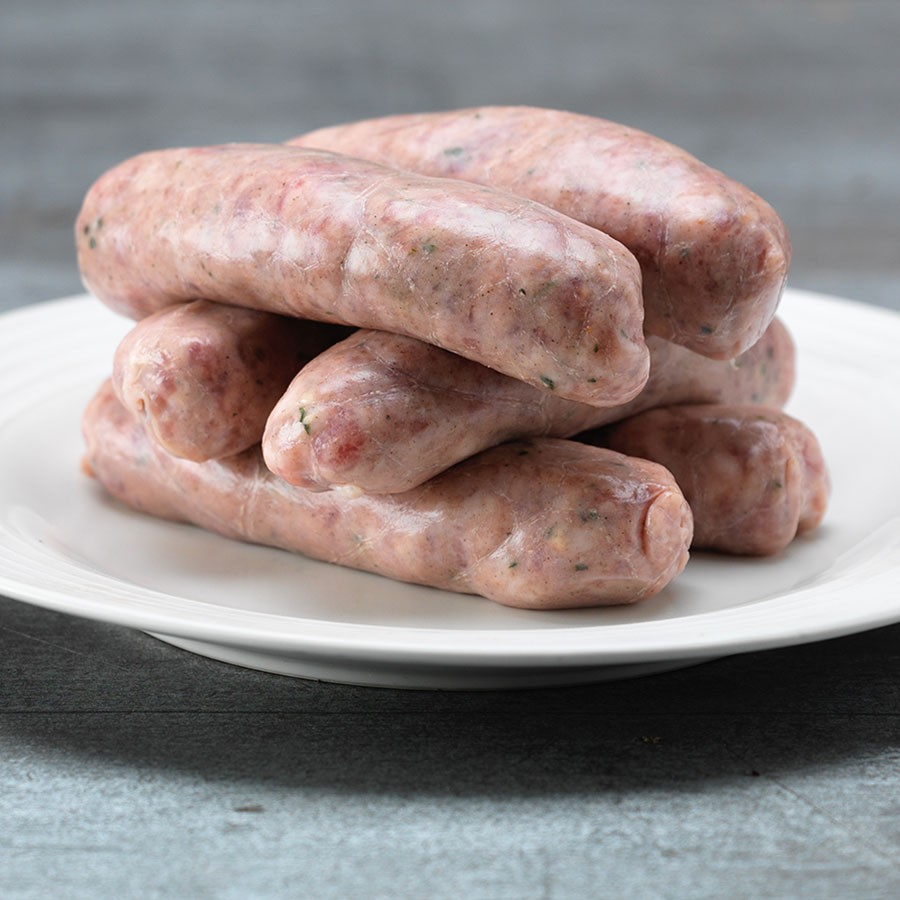bacon: (178, 161, 529, 300)
